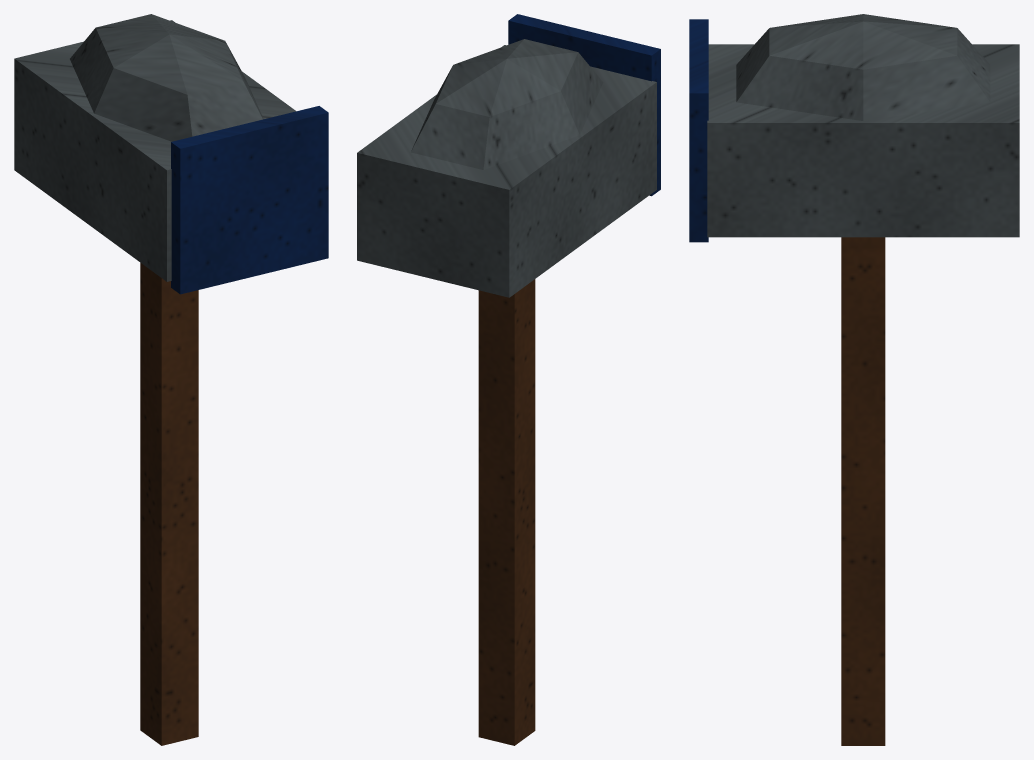
The model's file is PROP-31612EA52928_lod2.glb.
3 renders of one model, left to right at view 1: azimuth 30°, elevation 25°; view 2: azimuth 150°, elevation 25°; view 3: azimuth 270°, elevation 25°, orthographic. The views are drawn at different scales.
Visible parts, largest first — view 1: mail_post.001, mailbox_door.001, mailbox_lower.001, mailbox_round_roof.001; view 2: mailbox_lower.001, mail_post.001, mailbox_round_roof.001, mailbox_door.001; view 3: mailbox_lower.001, mail_post.001, mailbox_round_roof.001, mailbox_door.001.
Part boxes in pixels (x1,y1,x2,y2): mail_post.001: [140, 263, 198, 745]; mailbox_door.001: [171, 106, 328, 294]; mailbox_lower.001: [14, 20, 295, 281]; mailbox_round_roof.001: [70, 14, 263, 141]; mailbox_lower.001: [357, 45, 656, 297]; mail_post.001: [478, 279, 535, 745]; mailbox_round_roof.001: [411, 39, 603, 169]; mailbox_door.001: [508, 14, 660, 196]; mailbox_lower.001: [707, 44, 1019, 237]; mail_post.001: [841, 237, 885, 745]; mailbox_round_roof.001: [736, 14, 990, 120]; mailbox_door.001: [689, 19, 708, 242].
Bounding box in the file's own units: 0.34 × 1.44 × 0.6025.
3 materials, 3 textured.
